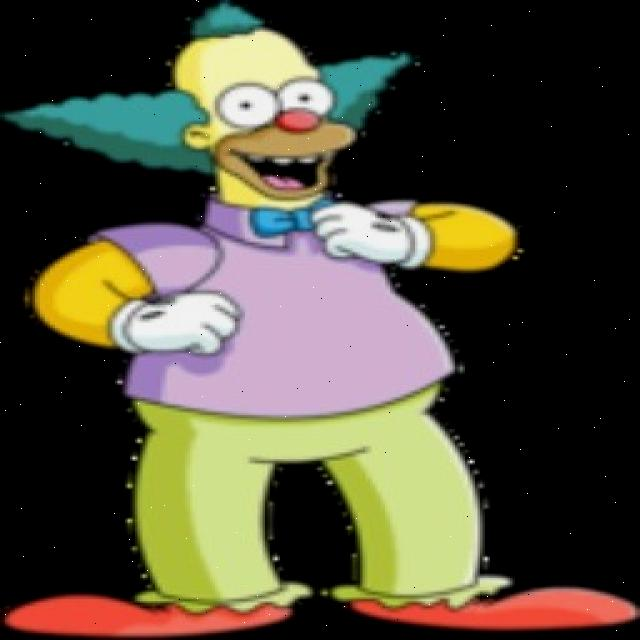Krusty the Clown: (8, 10, 408, 238)
